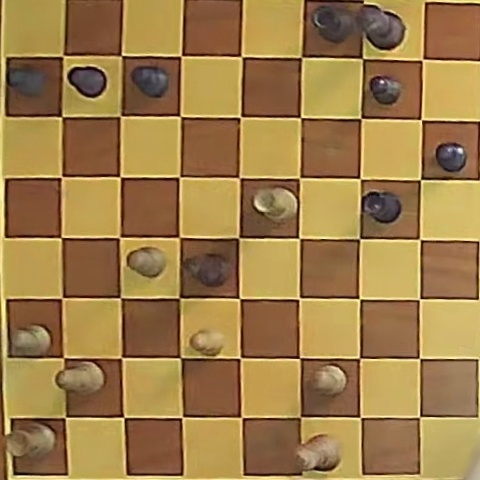black-king: (358, 5, 405, 50)
black-pawn: (185, 253, 230, 286), (68, 66, 107, 98), (131, 66, 169, 98), (7, 66, 46, 97), (370, 75, 402, 105), (436, 143, 467, 172)
black-rook: (312, 5, 357, 43), (362, 191, 402, 224)
white-bishop: (57, 362, 105, 394)
white-king: (296, 434, 341, 471)
white-pawn: (126, 247, 167, 278), (11, 325, 51, 356), (310, 365, 346, 395), (190, 329, 225, 356)
white-rook: (6, 422, 57, 460), (253, 187, 297, 222)
